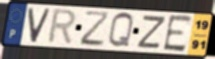E: (161, 14, 194, 54)
Q: (107, 12, 135, 50)
R: (45, 8, 78, 47)
V: (27, 7, 53, 44)
Z: (79, 10, 111, 48), (135, 15, 168, 51)
